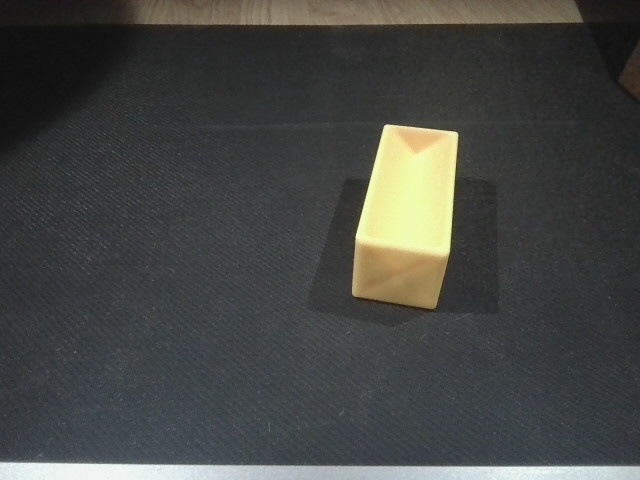YellowSample: (347, 113, 483, 319)
